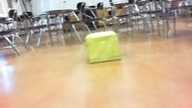cube: (84, 31, 119, 64)
